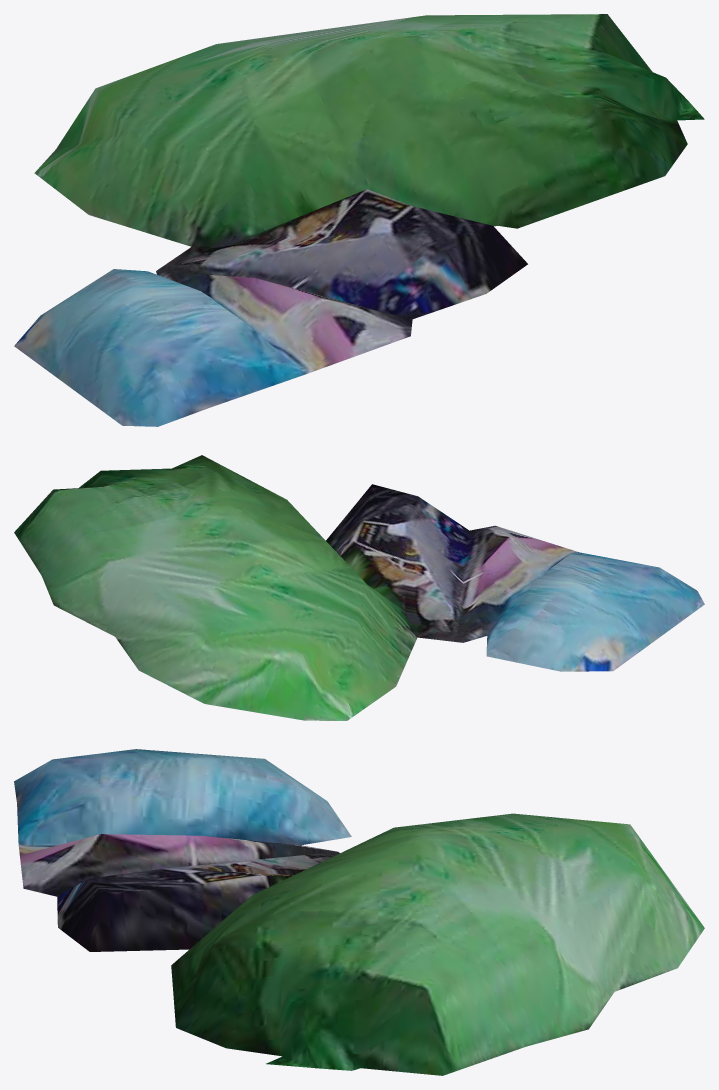
File: Garbage1B.fbx
The picture shows the model from 3 angles, top to bottom: view 1: azimuth 30°, elevation 25°; view 2: azimuth 150°, elevation 25°; view 3: azimuth 270°, elevation 25°; orthographic projection. The views are drawn at different scales.
Parts seen in each view (by area): view 1: polySurface849; view 2: polySurface849; view 3: polySurface849.
Boxes of the visible parts, <box> form: polySurface849: <box>14,14,704,426</box>; polySurface849: <box>14,455,704,720</box>; polySurface849: <box>14,749,704,1075</box>.
Bounding box in the file's own units: 1.45 × 0.303 × 1.16.
